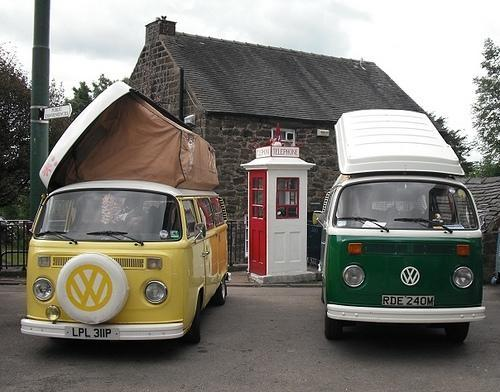bus: (19, 78, 486, 346)
car: (310, 106, 486, 344), (21, 178, 230, 347)
